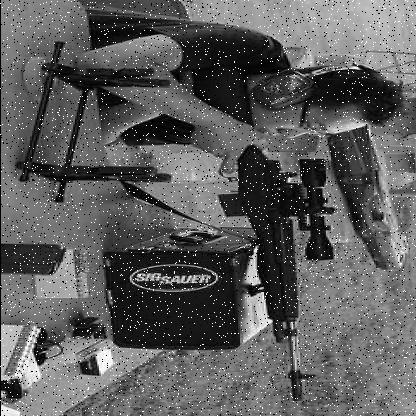rifle: (155, 66, 359, 409)
